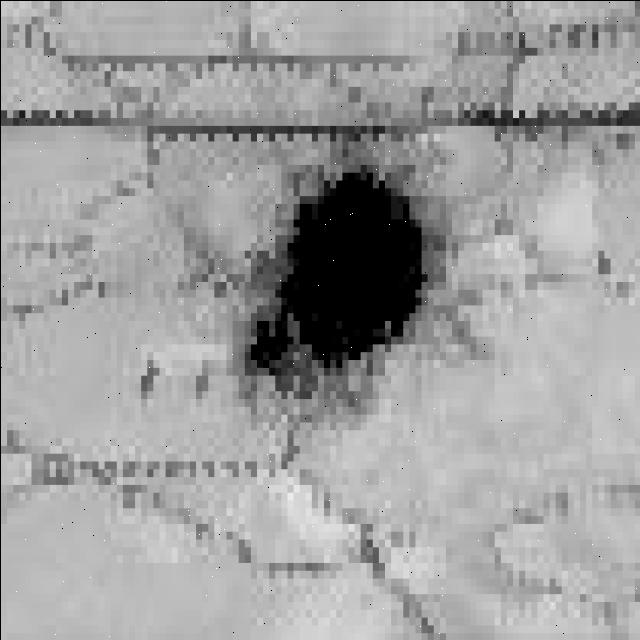good_void: (241, 151, 457, 416)
